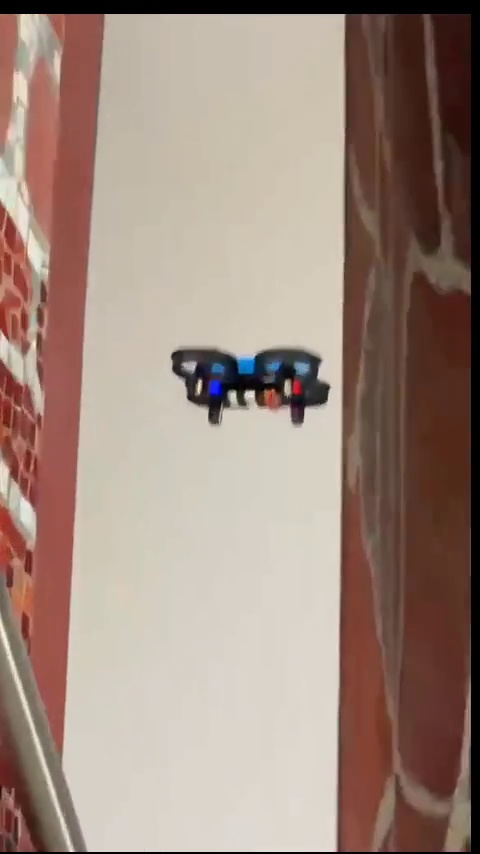drone: (168, 347, 331, 426)
